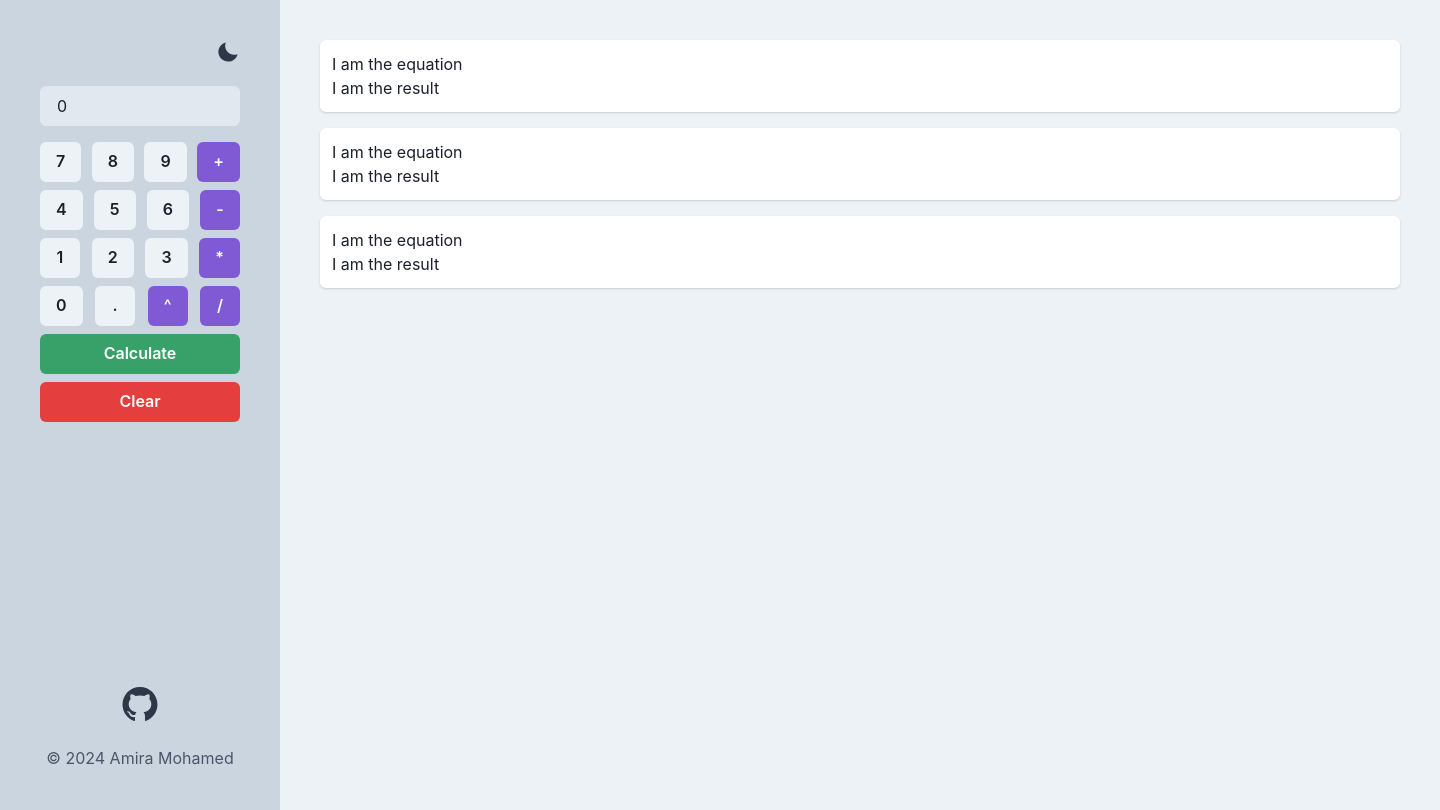
Test: App Components › Display a single-digit number
Click the button "9" at (166, 162), box [144,142,187,182]
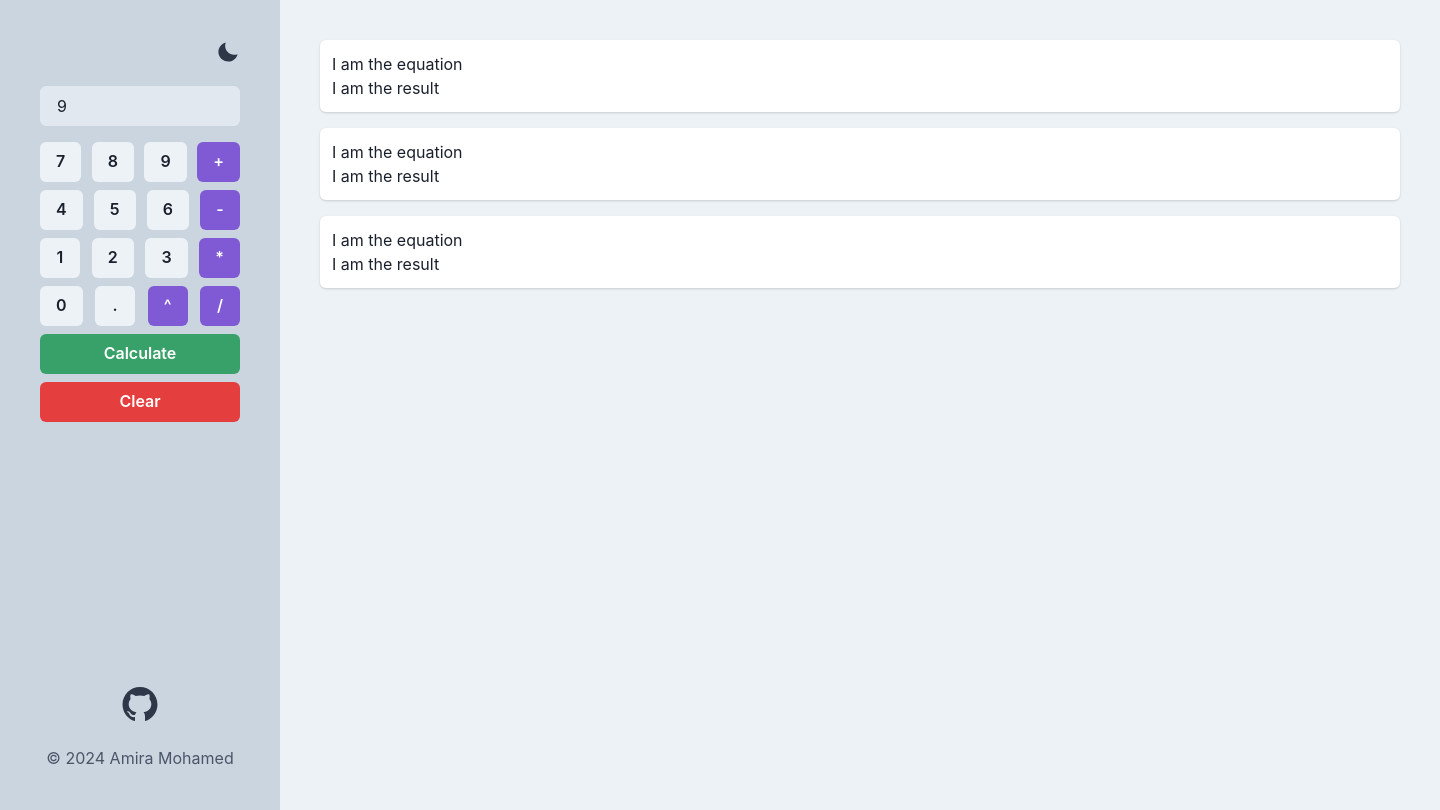
Expected: the field holds "9", [40,86,240,126]
